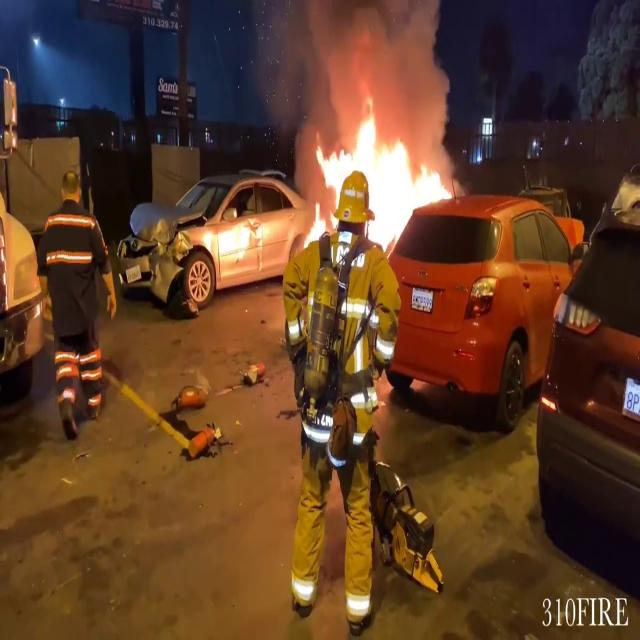Fire: (308, 96, 462, 253)
Smoke: (267, 0, 457, 129)
